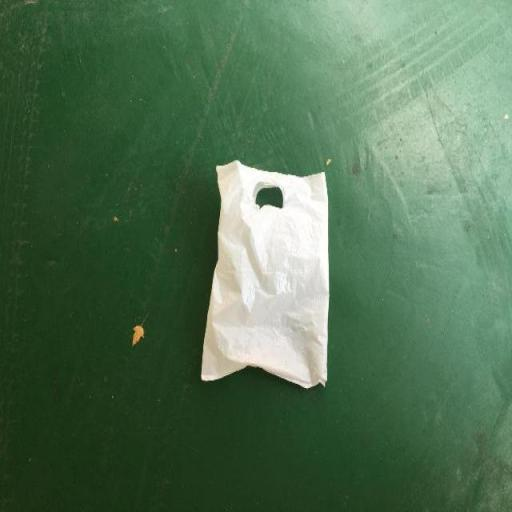plastic-bag: (199, 159, 332, 392)
